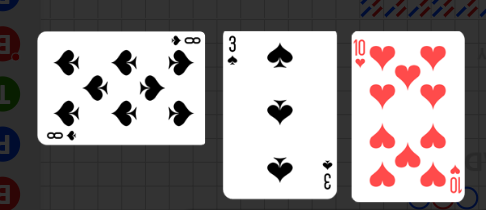10H: (448, 162, 462, 195)
8S: (168, 34, 202, 47), (46, 129, 79, 142)
